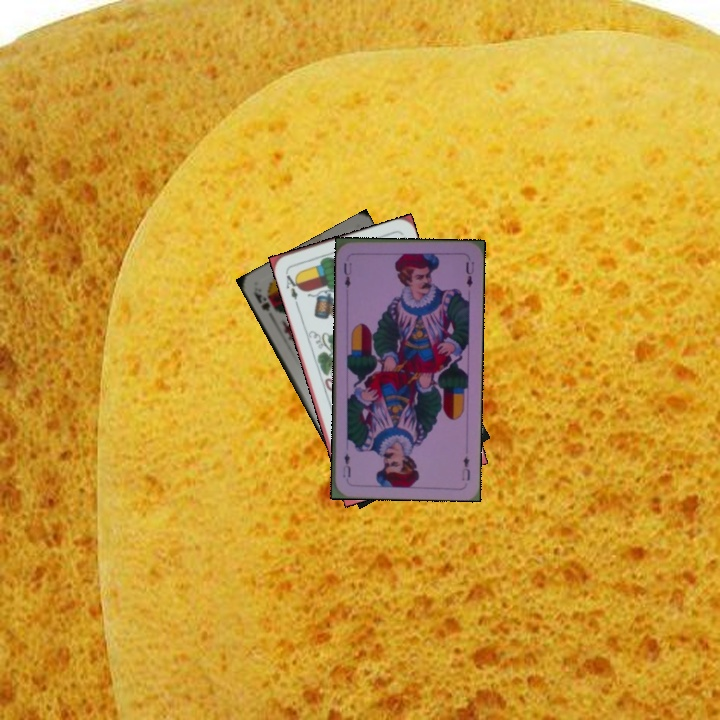EA: (281, 268, 303, 302)
EU: (340, 258, 354, 290), (458, 452, 472, 483)
SK: (249, 287, 279, 315)
